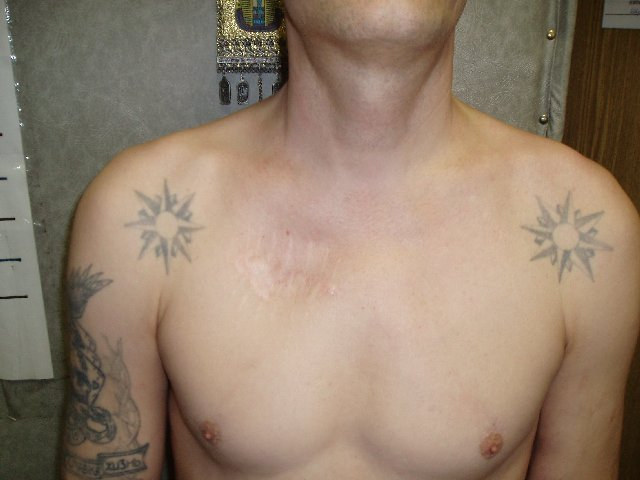tatu4_zvezda: (517, 189, 616, 288), (124, 179, 208, 276)
